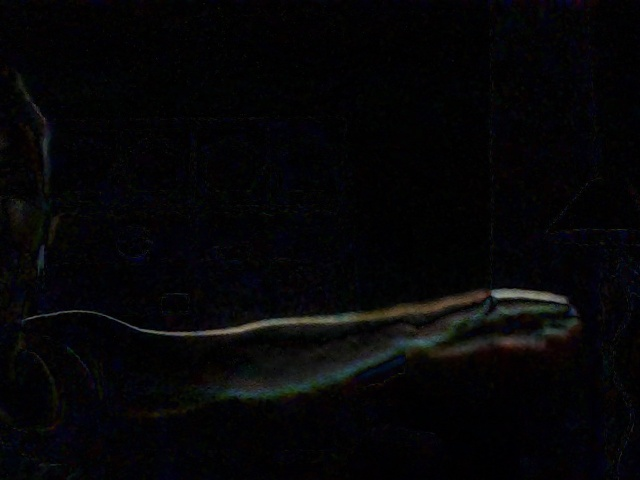hand_pa: (399, 284, 582, 367)
